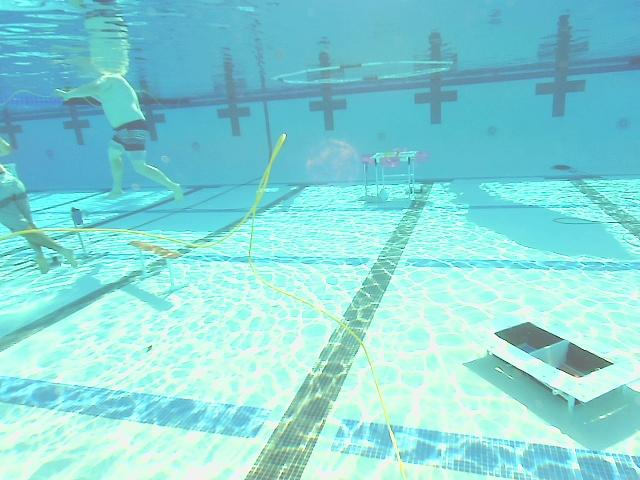dropper: (477, 316, 638, 410)
table: (362, 148, 430, 203)
